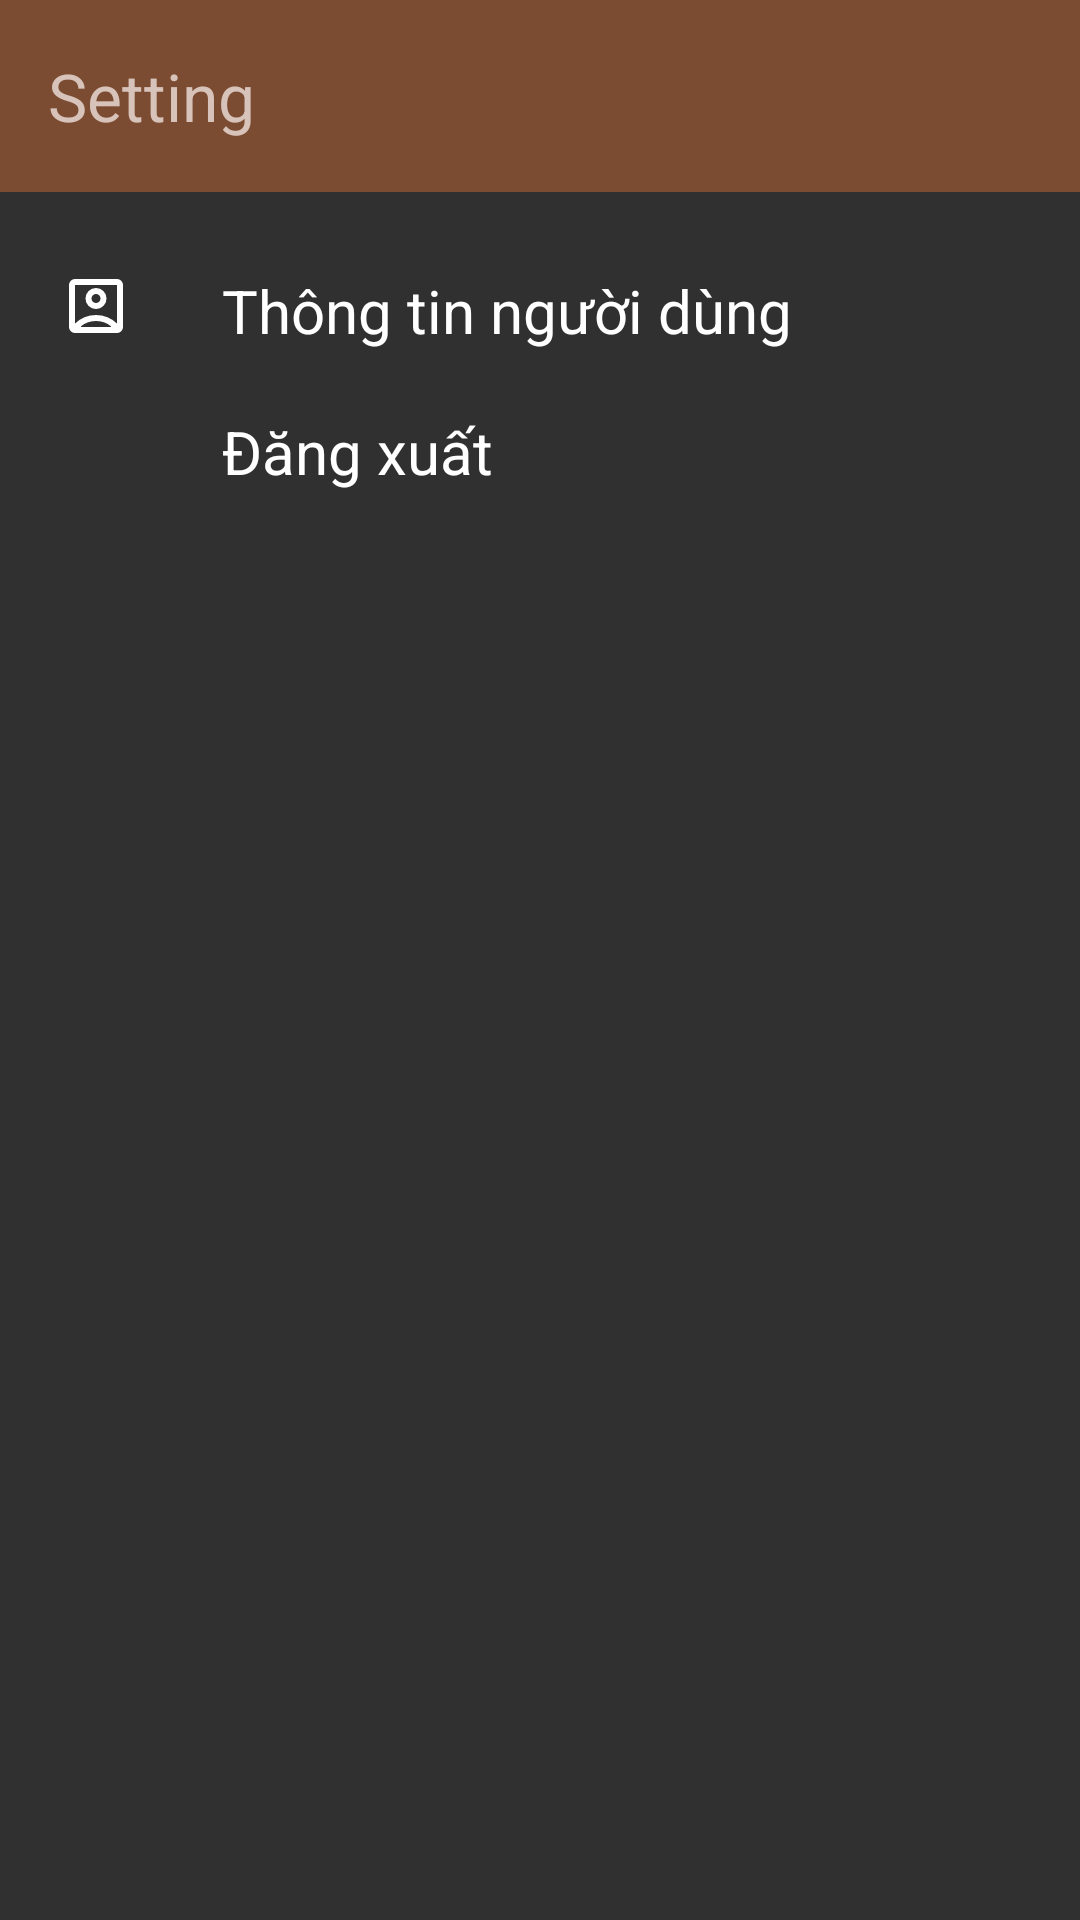

Icon bounding boxes for this 1080px×1920px phone screenshot, format bbox=(x1, y1, x2, y2):
account box: bbox=(69, 279, 123, 333)
